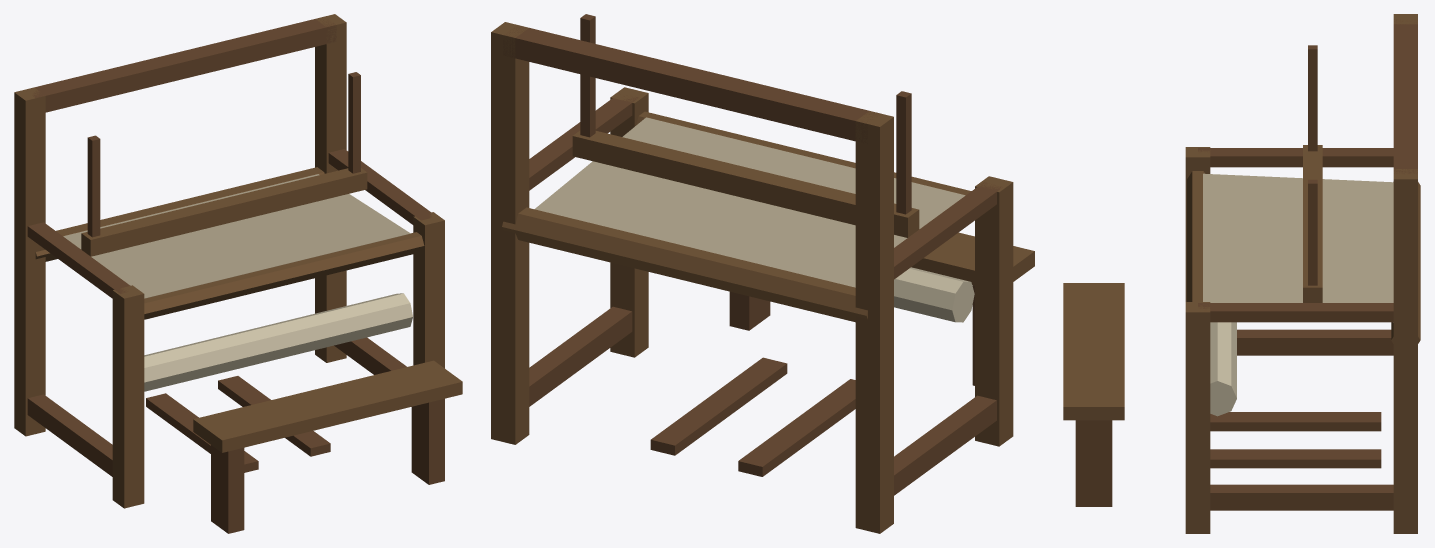
File: Loom.fbx
3 renders of one model, left to right at view 1: azimuth 30°, elevation 25°; view 2: azimuth 150°, elevation 25°; view 3: azimuth 270°, elevation 25°, orthographic. The views are drawn at different scales.
Parts seen in each view (by area): view 1: Loom; view 2: Loom; view 3: Loom.
Boxes of the visible parts, x1,y1,x2,y2 form: Loom: (14, 14, 462, 533); Loom: (491, 14, 1034, 533); Loom: (1063, 14, 1420, 533).
Bounding box in the file's own units: 1.6 × 1.6 × 1.46.
